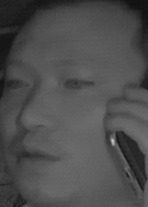eye: (63, 73, 94, 93), (3, 74, 31, 92)
mouth: (11, 137, 65, 172)
